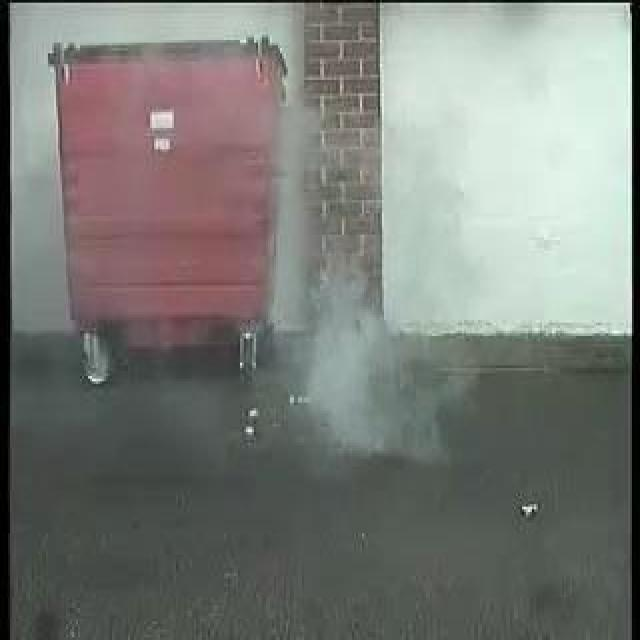Smoke: (269, 121, 407, 444)
